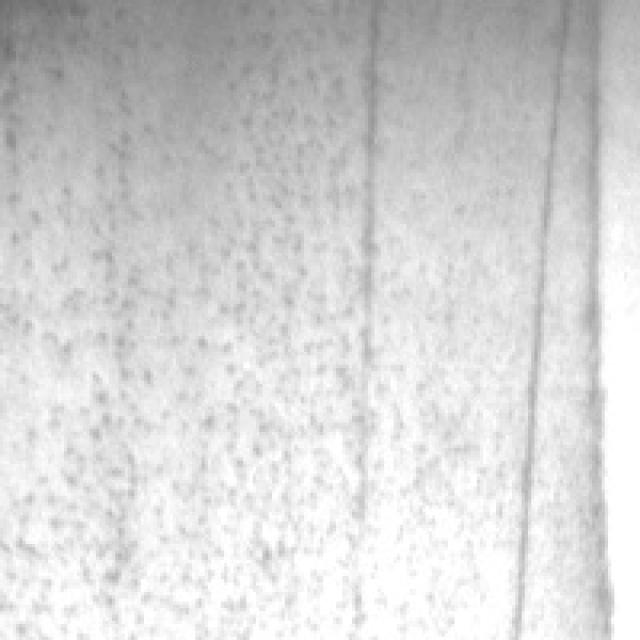pitted_surface: (3, 6, 365, 628)
